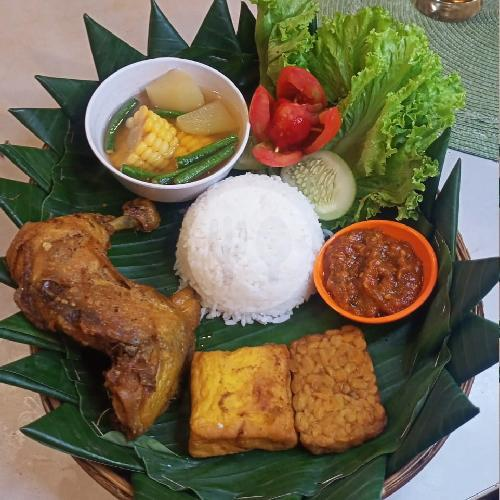buah_sayur_lainnya: (345, 66, 437, 154), (305, 165, 341, 208)
buah_sayur_vitA: (119, 91, 210, 170), (331, 244, 408, 301), (255, 88, 319, 140)
daging: (27, 223, 105, 319)
kacang_legume: (196, 353, 284, 440), (295, 353, 365, 432)
makanan_berpati: (202, 200, 295, 282)
